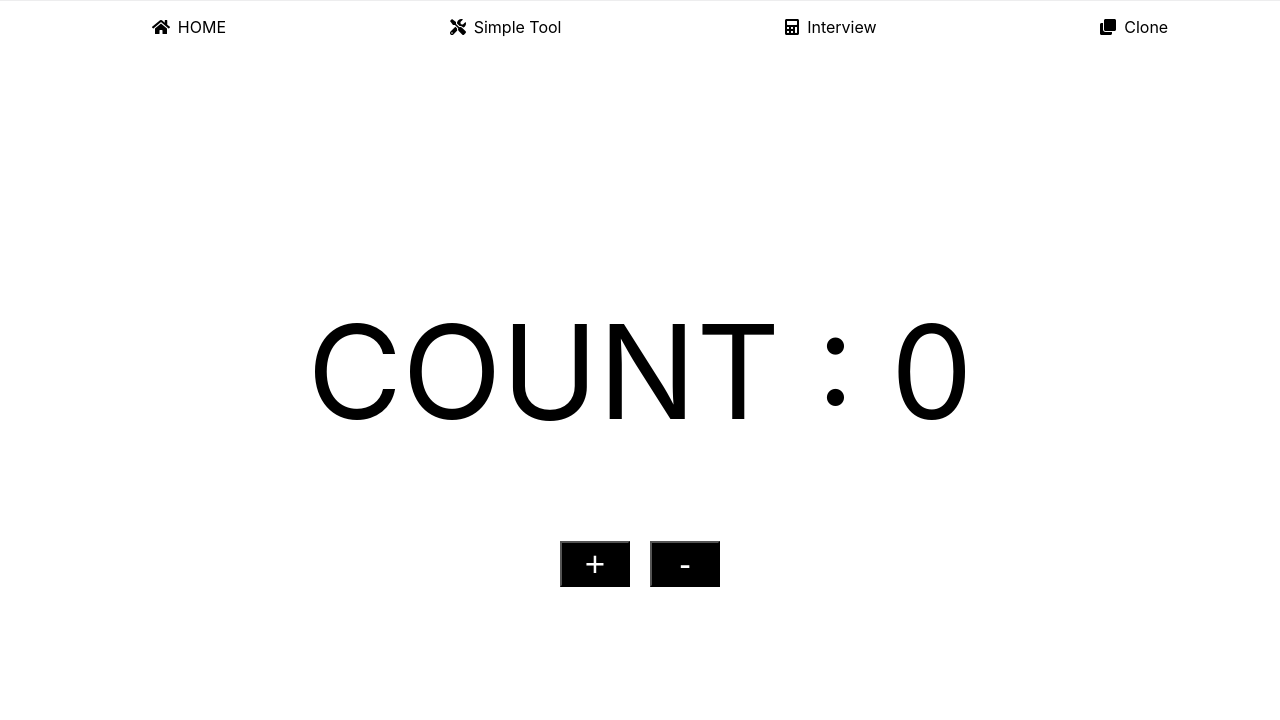
Home Page › clicking on button increments counter display
What coordinates should you click on to do the following:
click the button with test id "counter-increment"
I would click on:
 (595, 564)
Its box is [560,541,630,587].
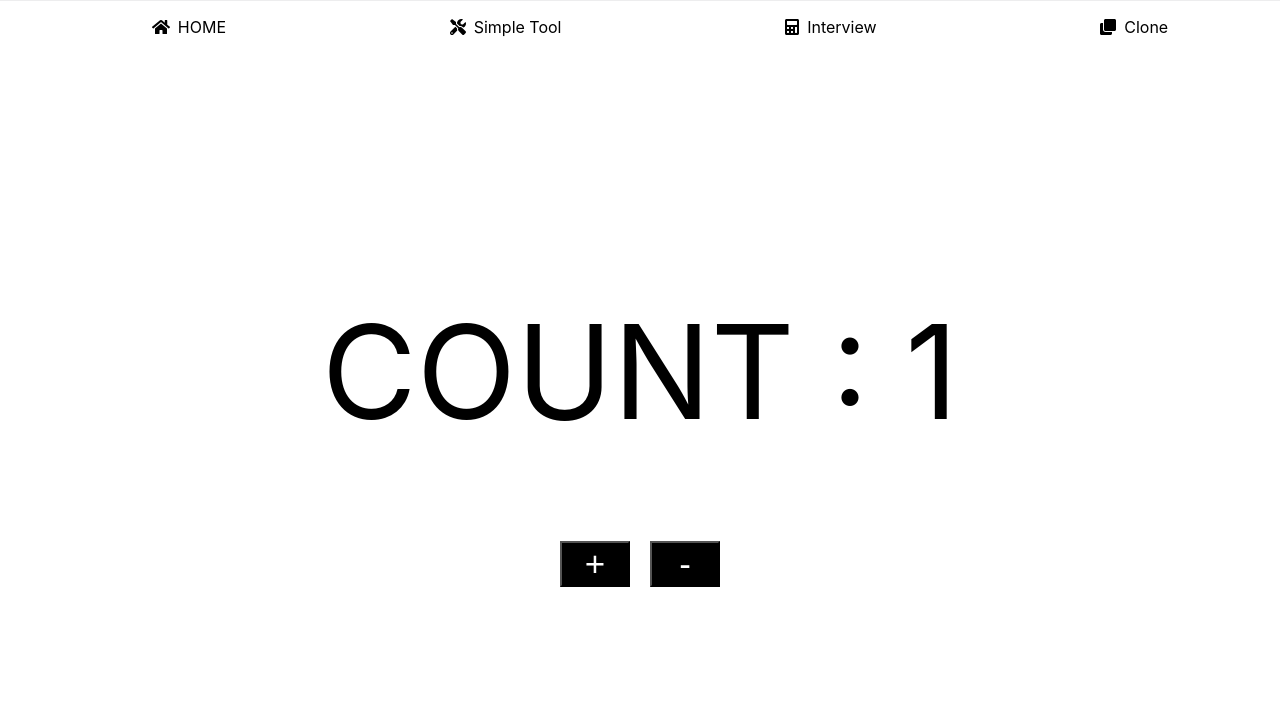
Check: the text "1" is shown, box [905,293,958,450]
